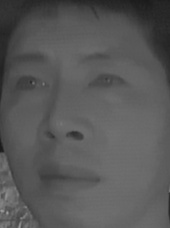eye: (90, 70, 127, 95), (13, 72, 49, 95)
mouth: (32, 157, 101, 199)
